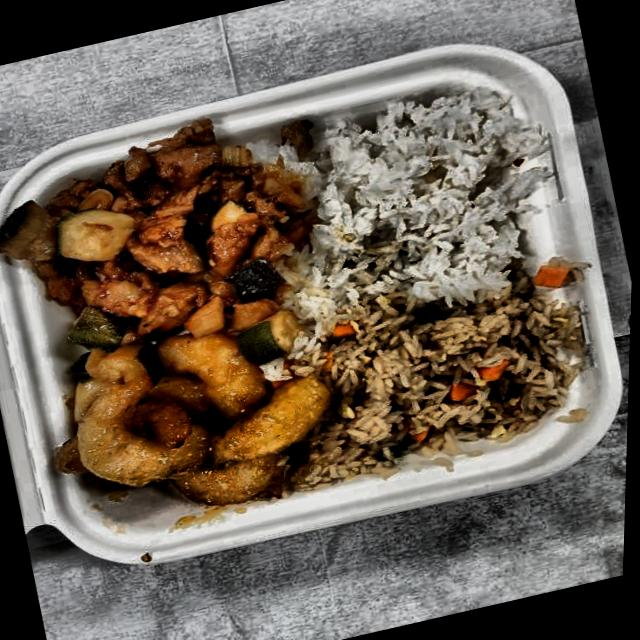Food: (0, 101, 335, 382), (22, 298, 354, 549), (288, 253, 616, 487), (288, 73, 559, 308)
